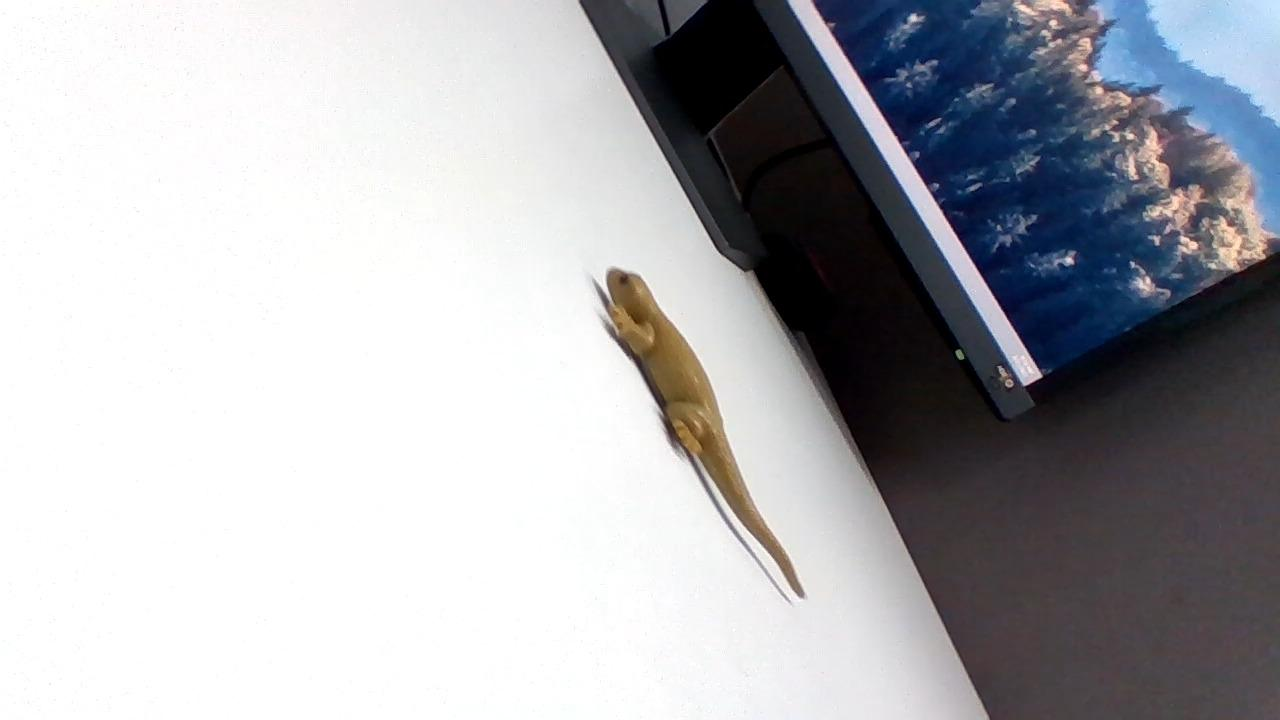lizard: (601, 257, 803, 596)
